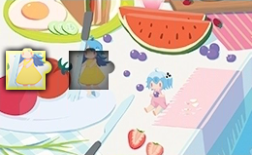gap: (69, 48, 115, 90)
